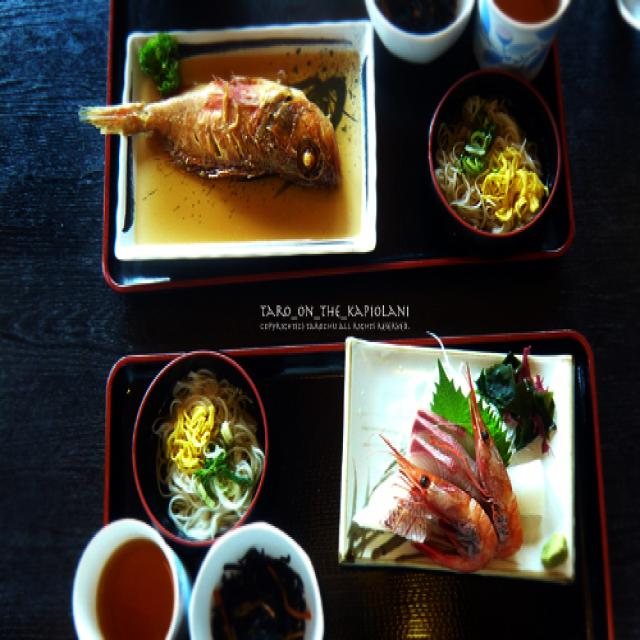熟制海鲜: (78, 35, 356, 237)
